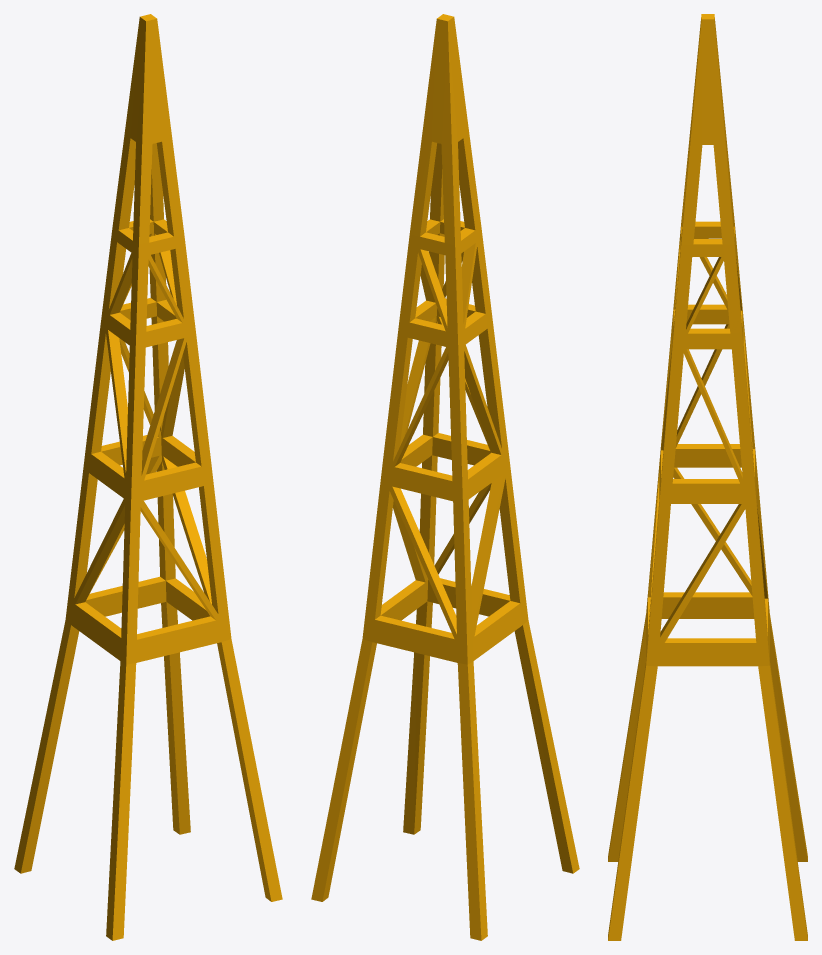
File: radio_mast.obj
The picture shows the model from 3 angles, left to right: view 1: azimuth 30°, elevation 25°; view 2: azimuth 150°, elevation 25°; view 3: azimuth 270°, elevation 25°; orthographic projection.
Visible parts, largest first — view 1: Mast_Cube; view 2: Mast_Cube; view 3: Mast_Cube.
Part boxes in pixels (x1=…): Mast_Cube: x1=14, y1=14, x2=282, y2=940; Mast_Cube: x1=311, y1=14, x2=579, y2=940; Mast_Cube: x1=608, y1=14, x2=807, y2=940.
Bounding box in the file's own units: 33.2 × 162 × 33.2.
